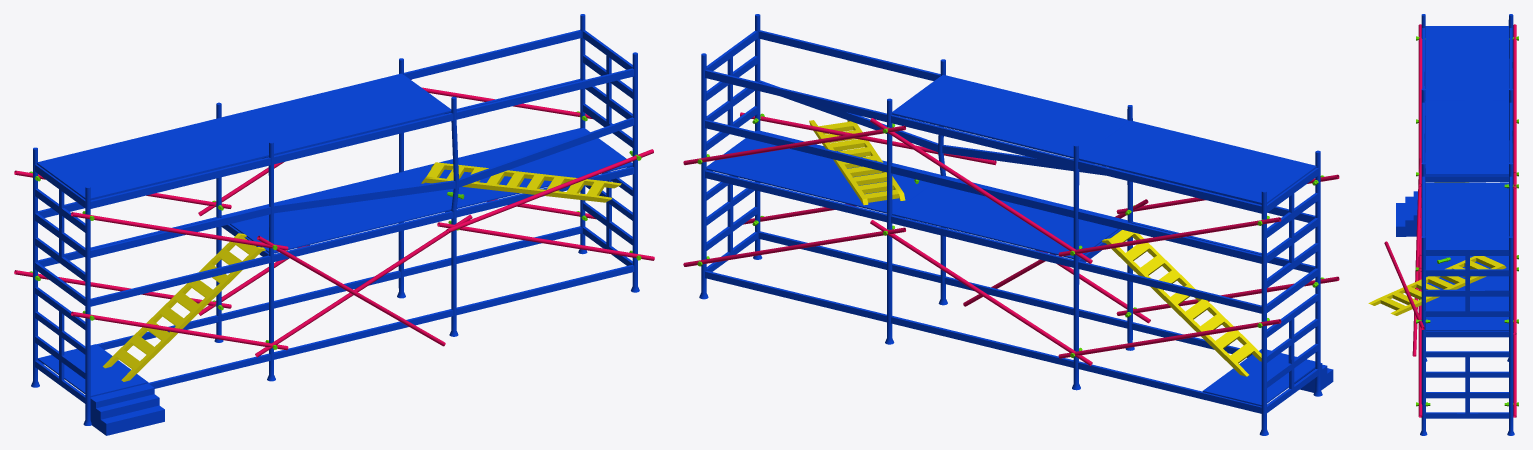
Rendered from Broken Scaffold.fbx.
The picture shows the model from 3 angles, left to right: view 1: azimuth 30°, elevation 25°; view 2: azimuth 150°, elevation 25°; view 3: azimuth 270°, elevation 25°; orthographic projection. The views are drawn at different scales.
Visible parts, largest first — view 1: pCylinder12, pCube4, pCube5, pCylinder27, pCylinder29, pCylinder26, pCylinder30, pCylinder15, pCylinder28, pCylinder34, pCylinder32; view 2: pCylinder12, pCube4, pCube5, pCylinder35, pCylinder31, pCylinder33, pCylinder34, pCylinder32, pCylinder36, pCylinder29, pCylinder26; view 3: pCylinder12, pCube5, pCylinder30, pCylinder32, pCylinder28, pCylinder33, pCylinder15, pCylinder29, pCylinder36.
Part boxes in pixels (box(x1,y1,x2,y2)): pCylinder12: box(31, 14, 639, 435); pCube4: box(103, 233, 265, 381); pCube5: box(421, 162, 621, 202); pCylinder27: box(255, 214, 472, 357); pCylinder29: box(446, 149, 653, 232); pCylinder26: box(71, 311, 288, 350); pCylinder30: box(71, 212, 288, 250); pCylinder15: box(437, 222, 654, 260); pCylinder28: box(257, 235, 445, 346); pCylinder34: box(14, 270, 231, 308); pCylinder32: box(421, 87, 592, 118); pCylinder12: box(699, 14, 1333, 435); pCube4: box(1102, 230, 1261, 376); pCube5: box(809, 120, 905, 205); pCylinder35: box(870, 220, 1092, 365); pCylinder31: box(870, 118, 1092, 263); pCylinder33: box(1058, 217, 1281, 256); pCylinder34: box(1058, 319, 1281, 358); pCylinder32: box(683, 125, 905, 165); pCylinder36: box(683, 227, 905, 266); pCylinder29: box(740, 112, 996, 165); pCylinder26: box(1116, 276, 1339, 315); pCylinder12: box(1396, 14, 1514, 435); pCube5: box(1368, 256, 1506, 315); pCylinder30: box(1418, 24, 1422, 186); pCylinder32: box(1513, 173, 1516, 334); pCylinder28: box(1412, 158, 1421, 356); pCylinder33: box(1513, 24, 1516, 172); pCylinder15: box(1418, 256, 1422, 417); pCylinder29: box(1384, 241, 1424, 329); pCylinder36: box(1513, 334, 1516, 417).
Size of the model in its own units: 25.72 by 10.14 by 6.93.
